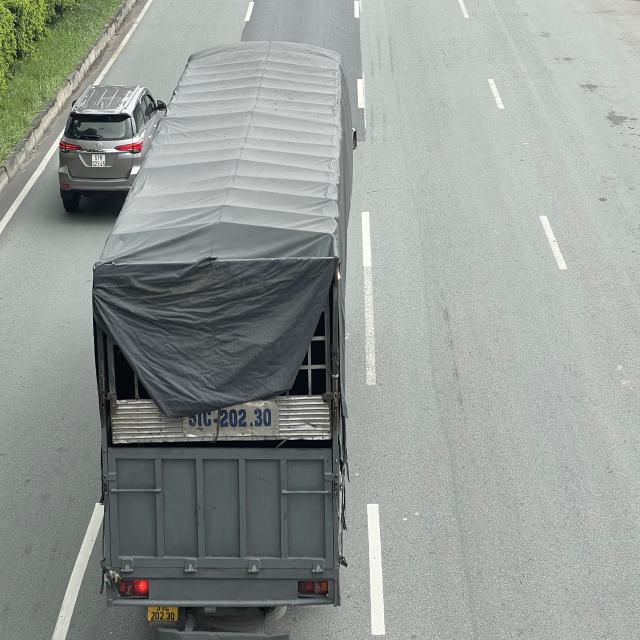car: (57, 84, 164, 206)
truck: (92, 41, 356, 624)
